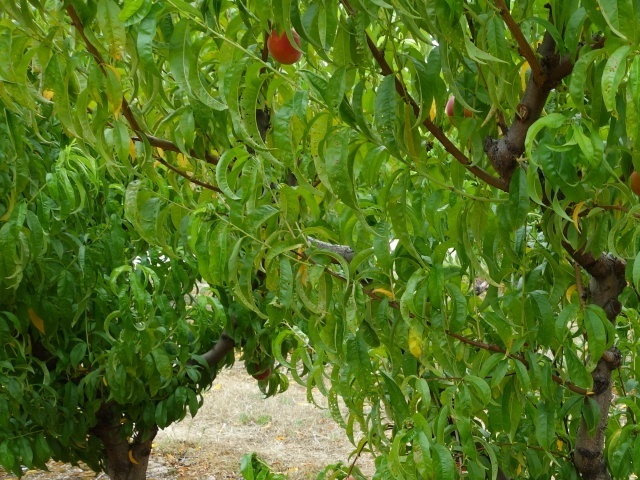peach: (261, 24, 306, 69), (443, 93, 473, 127), (248, 360, 272, 383)
